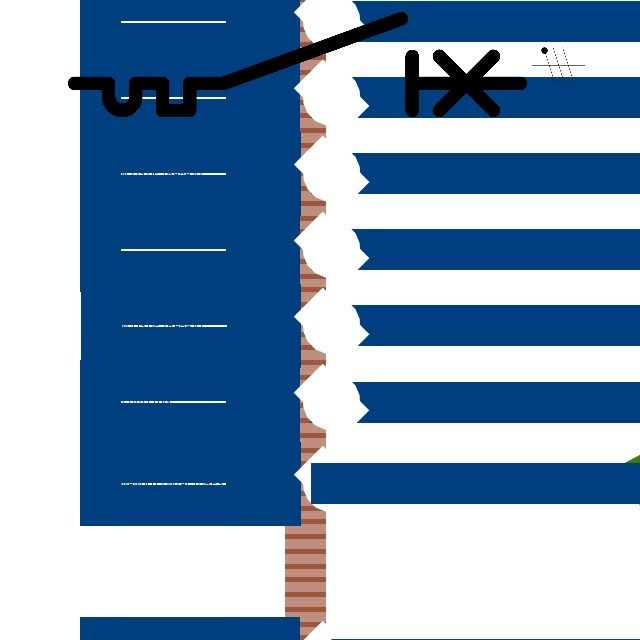interruptor_termomagnetico: (63, 7, 532, 122)
